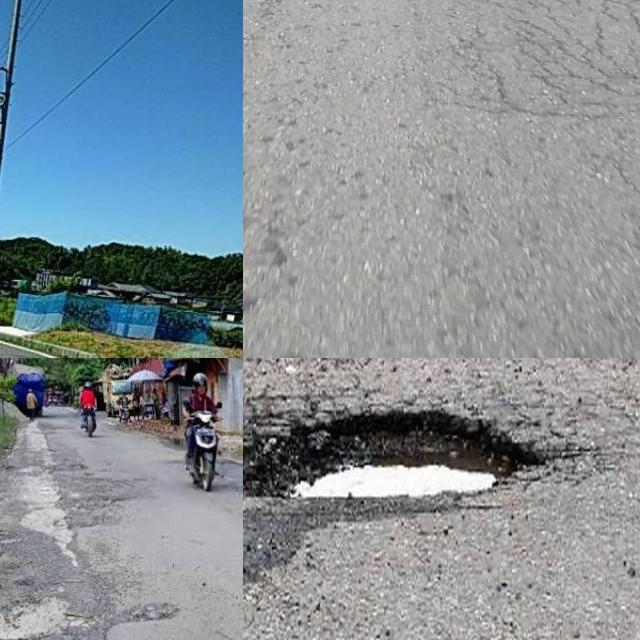Lubang: (243, 404, 556, 496)
Retak Buaya: (452, 0, 640, 124)
